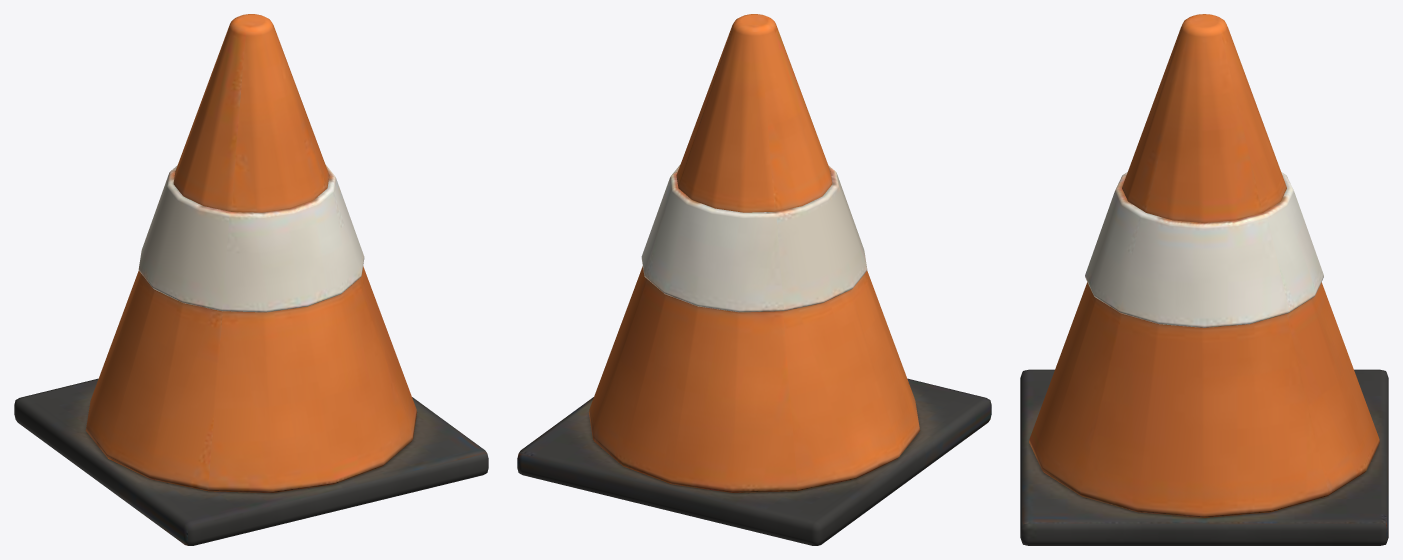
File: arena_cone.glb
3 views of the same model, side by side, from view 1: azimuth 30°, elevation 25°; view 2: azimuth 150°, elevation 25°; view 3: azimuth 270°, elevation 25° (orthographic). The views are drawn at different scales.
Visible parts, largest first — view 1: cone; view 2: cone; view 3: cone.
Part boxes in pixels (x1,y1,x2,y2): cone: (14,14,488,545); cone: (517,14,991,545); cone: (1020,14,1388,545).
Size of the model in its own units: 0.52 by 0.7 by 0.52.
1 material, 1 textured.
